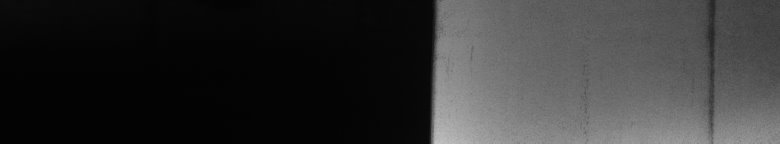hd: (700, 4, 724, 136)
